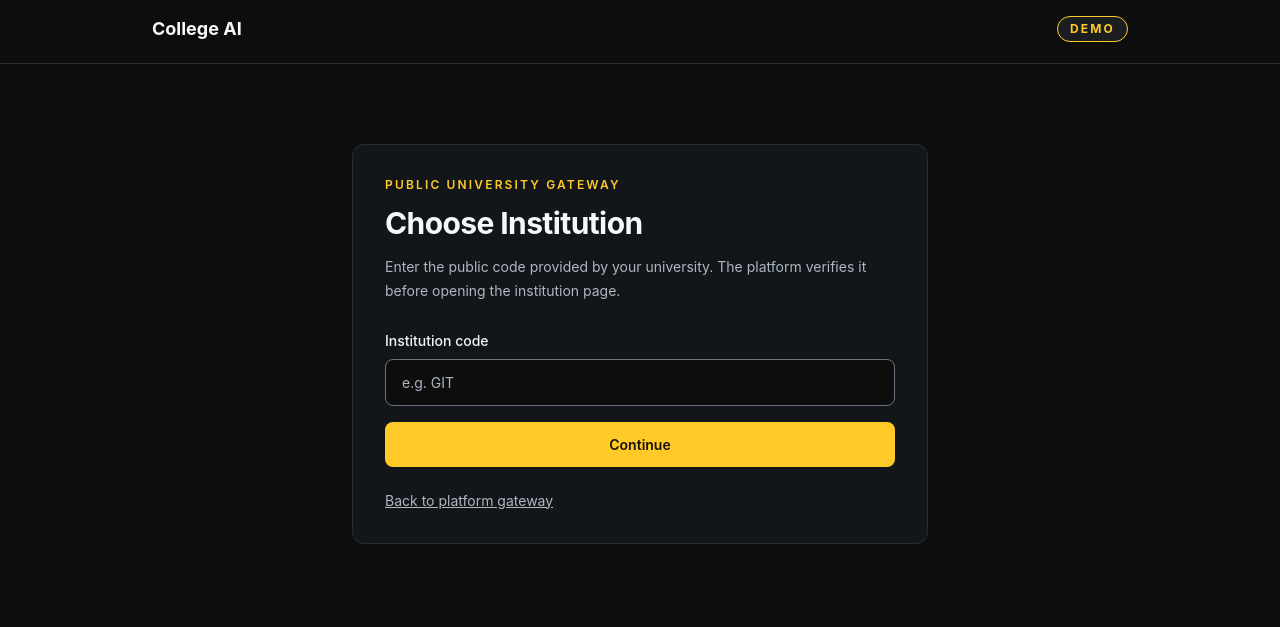
Test case: institution presentation gateway › shows a safe error instead of backend diagnostics
The image size is (1280, 627).
Step 1. Type "GIT" into the field labelled "Institution code" → (640, 382), box [385,358,895,406]
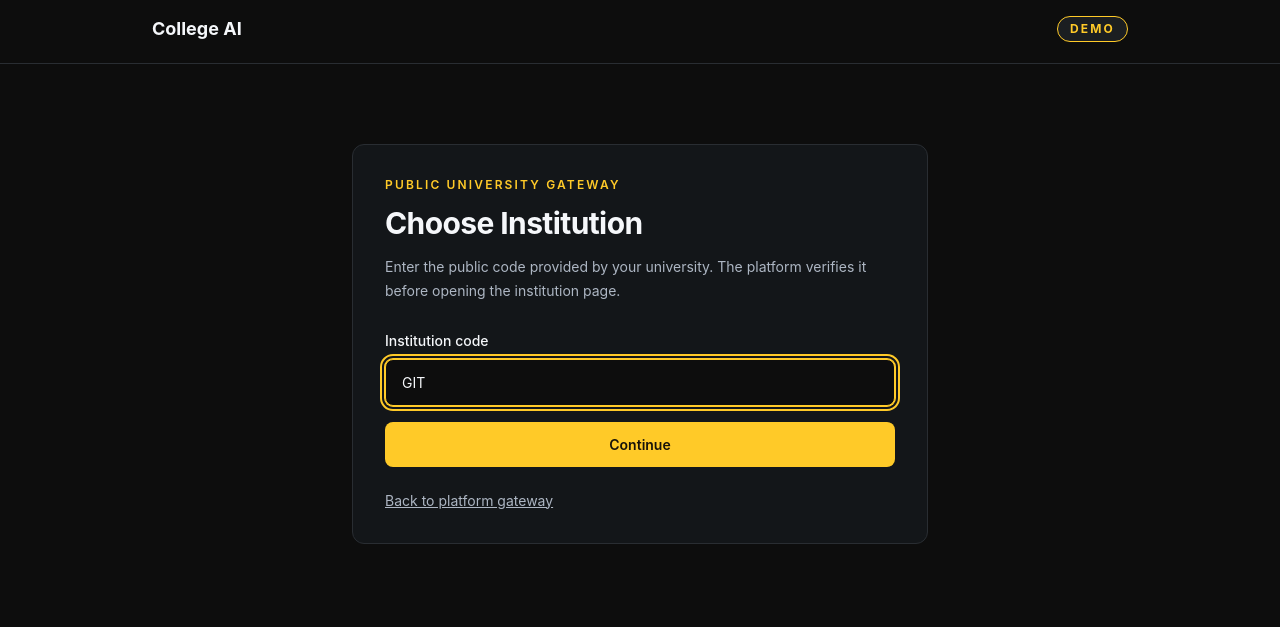
Step 2. Click the button "Continue" → click(640, 444), box [385,422,895,466]
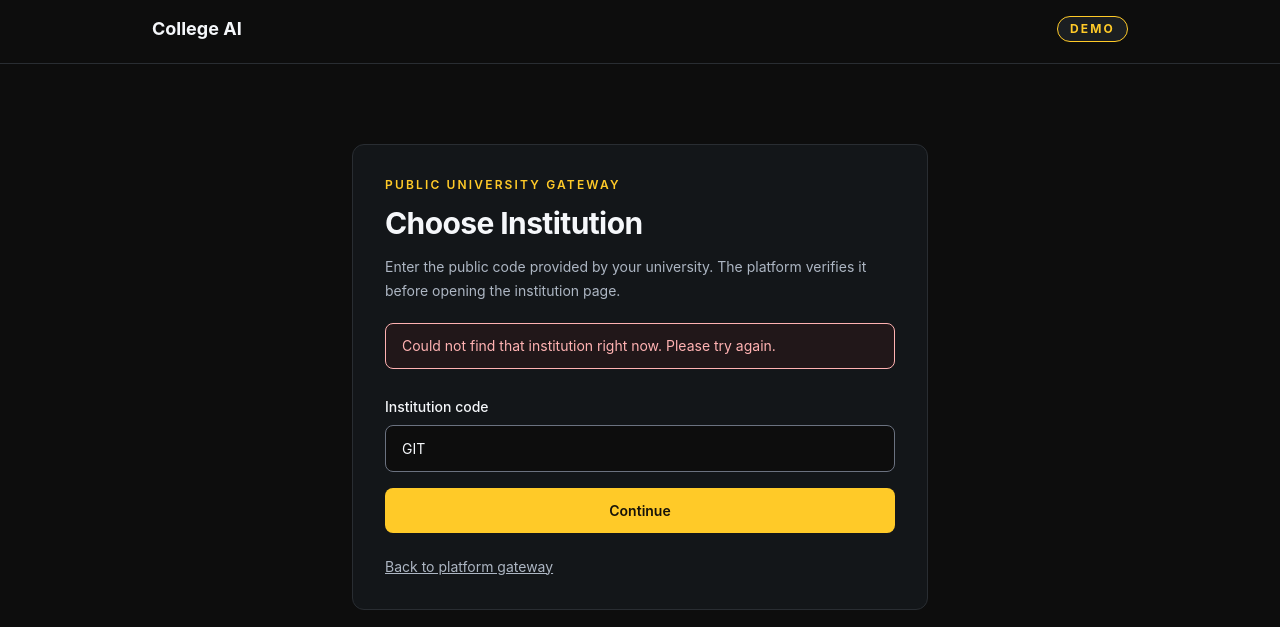
Check: the message shows "Could not find that institution right now", box [402,336,776,354]
